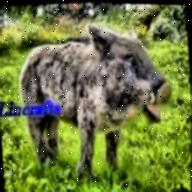boar: (16, 18, 190, 171)
